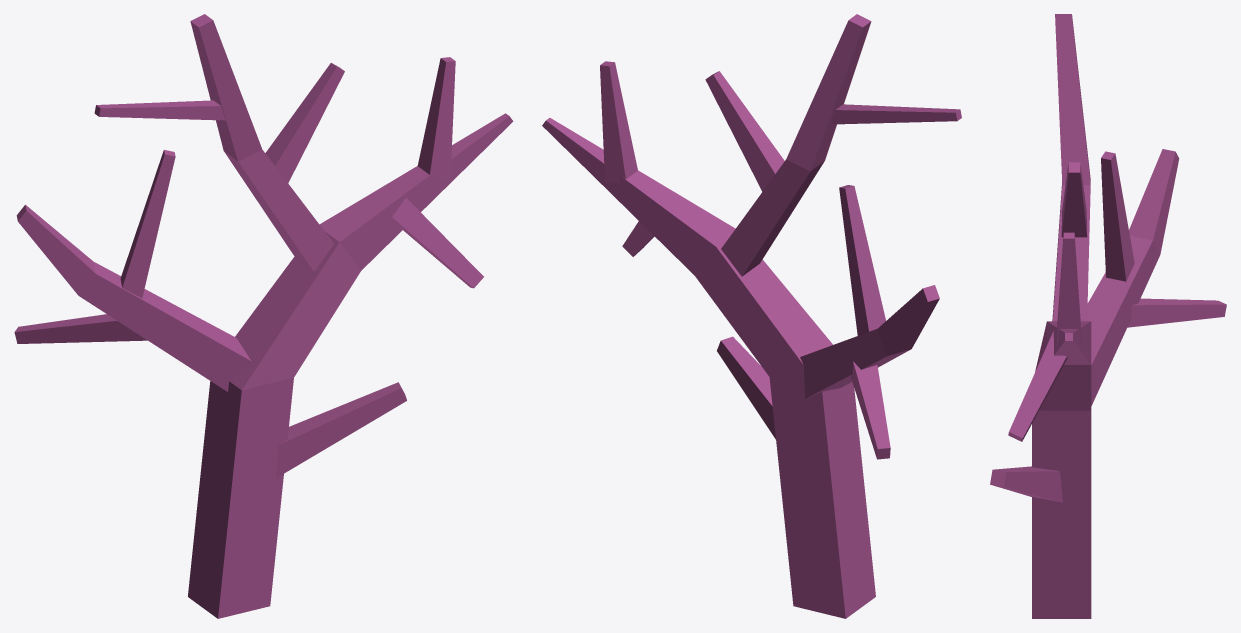
Rendered from Coral1_tex.fbx.
3 renders of one model, left to right at view 1: azimuth 30°, elevation 25°; view 2: azimuth 150°, elevation 25°; view 3: azimuth 270°, elevation 25°, orthographic.
Visible parts, largest first — view 1: Coral1_tex; view 2: Coral1_tex; view 3: Coral1_tex.
Boxes of the visible parts, x1,y1,x2,y2 form: Coral1_tex: [14, 14, 513, 618]; Coral1_tex: [542, 14, 961, 618]; Coral1_tex: [990, 14, 1226, 618].
Bounding box in the file's own units: 0.6675 × 0.8446 × 0.3127.
